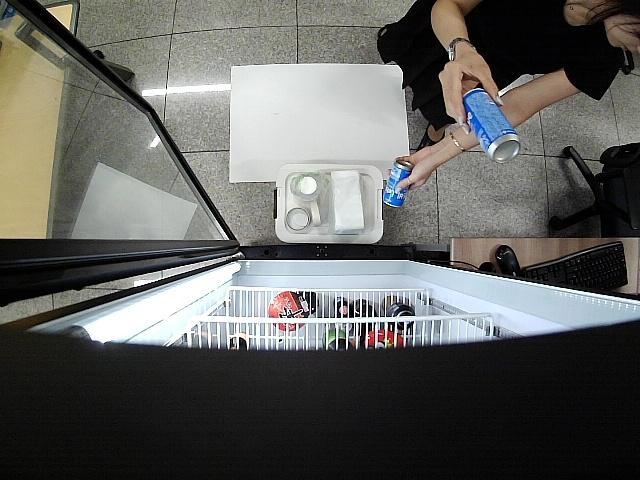15_letsbe: (460, 88, 519, 162), (383, 161, 412, 208)
